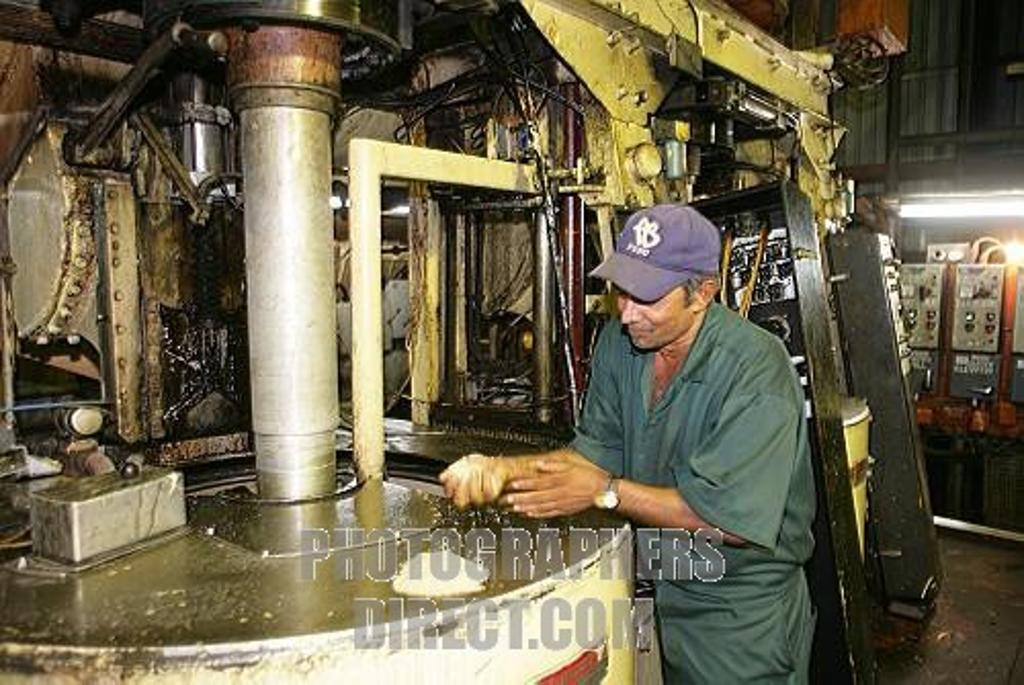face: (612, 244, 694, 348)
